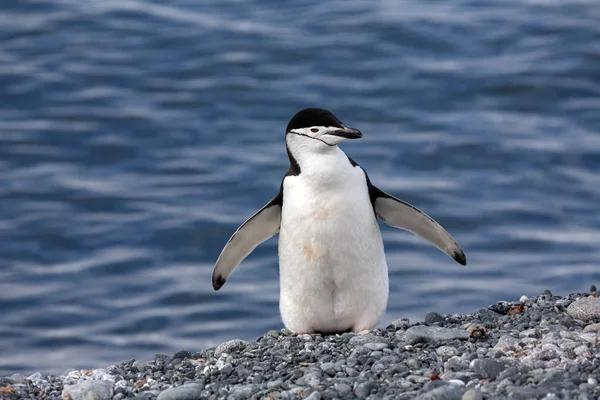chinstrap: (229, 99, 407, 355)
